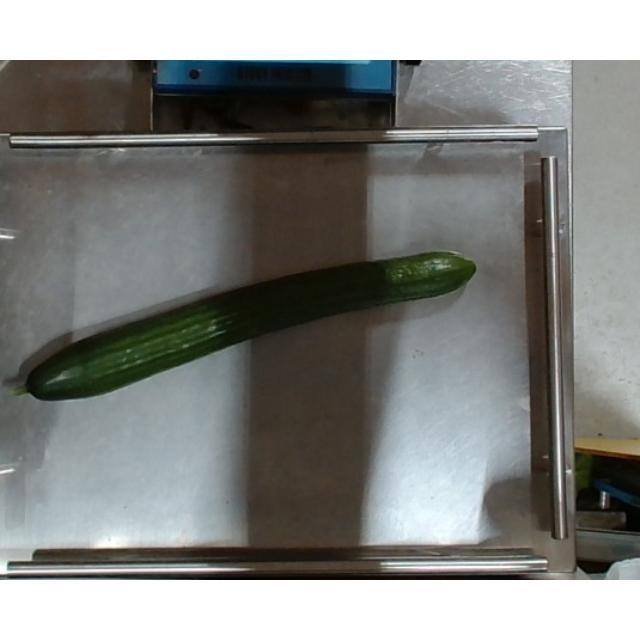cucumber: (15, 252, 477, 402)
